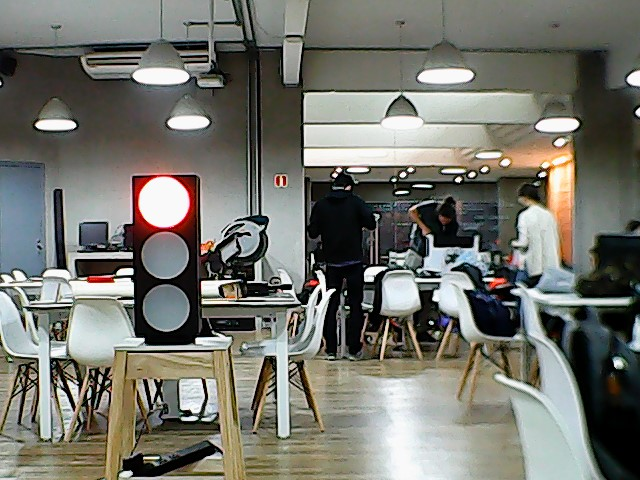vermelho: (127, 173, 206, 352)
